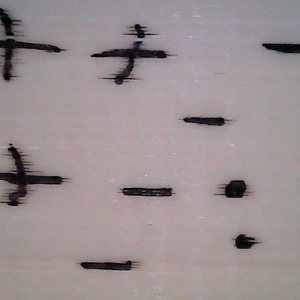3dpdot: (211, 172, 257, 207), (229, 225, 266, 256)
3dpminus: (115, 177, 190, 218), (72, 252, 150, 286), (178, 110, 239, 136), (257, 36, 298, 64)
3dpplus: (1, 6, 73, 87), (2, 135, 77, 212), (89, 23, 172, 88)
